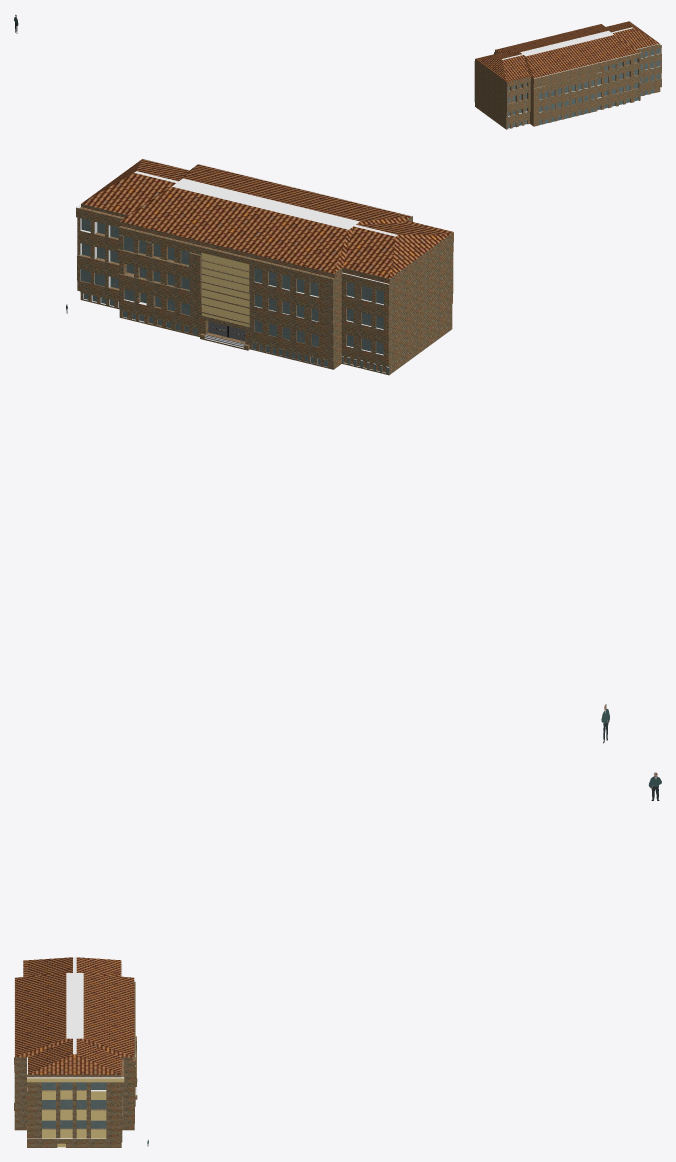
The model's file is chavez_aftTex.dae.
3 renders of one model, top to bottom at view 1: azimuth 30°, elevation 25°; view 2: azimuth 150°, elevation 25°; view 3: azimuth 270°, elevation 25°, orthographic. The views are drawn at different scales.
Parts seen in each view (by area): view 1: skpC5EC (×3); view 2: skpC5EC (×4); view 3: skpC5EC (×3).
Boxes of the visible parts, x1,y1,x2,y2 form: skpC5EC (×3): [474, 21, 661, 129]; skpC5EC (×4): [76, 159, 453, 375]; skpC5EC (×3): [14, 957, 137, 1147].
Bounding box in the file's own units: 1620 × 1359 × 196.
Materials: 35 (5 with a texture image).
